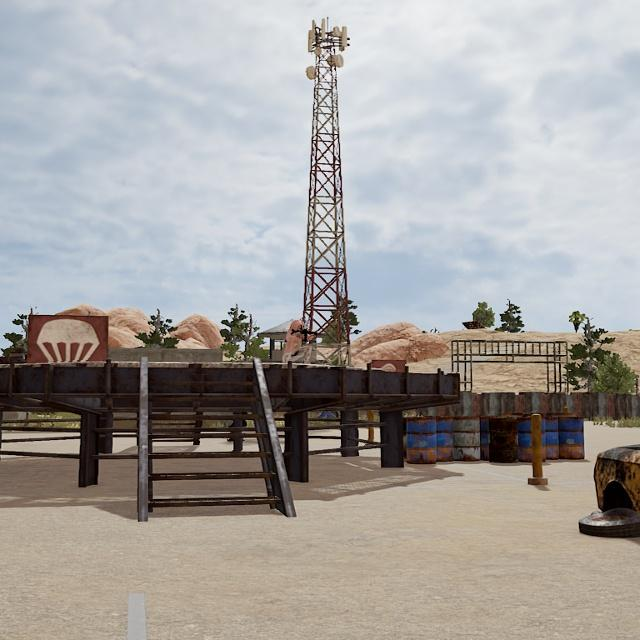head: (291, 319, 305, 334)
people: (282, 319, 313, 365)
